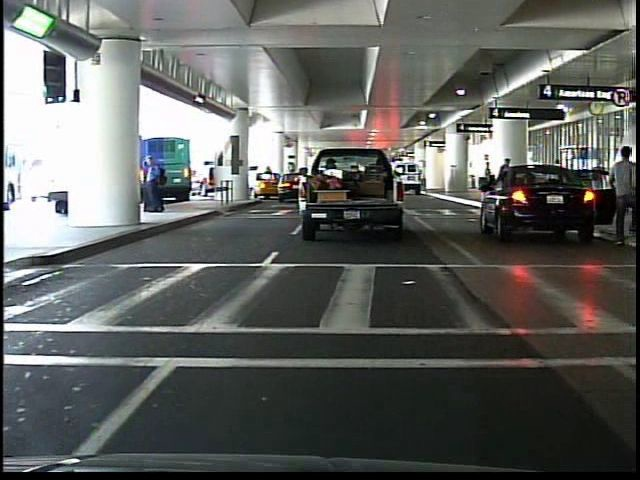person: (601, 142, 640, 245), (142, 154, 168, 216)
